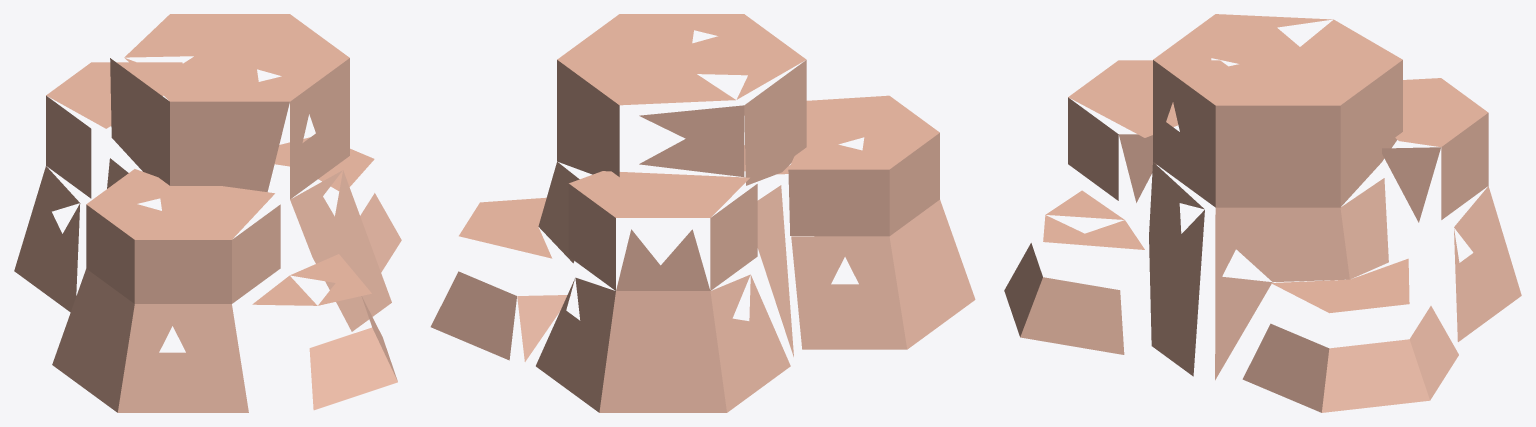
The model's file is rock_crystalsLargeA_lod1.glb.
3 views of the same model, side by side, from view 1: azimuth 30°, elevation 25°; view 2: azimuth 150°, elevation 25°; view 3: azimuth 270°, elevation 25° (orthographic). The views are drawn at different scales.
Visible parts, largest first — view 1: rock_crystalsLargeA.002; view 2: rock_crystalsLargeA.002; view 3: rock_crystalsLargeA.002.
Boxes of the visible parts, x1,y1,x2,y2 form: rock_crystalsLargeA.002: (14, 14, 401, 412); rock_crystalsLargeA.002: (430, 14, 975, 412); rock_crystalsLargeA.002: (1004, 14, 1521, 412).
Size of the model in its own units: 0.8339 by 0.507 by 0.9193.
